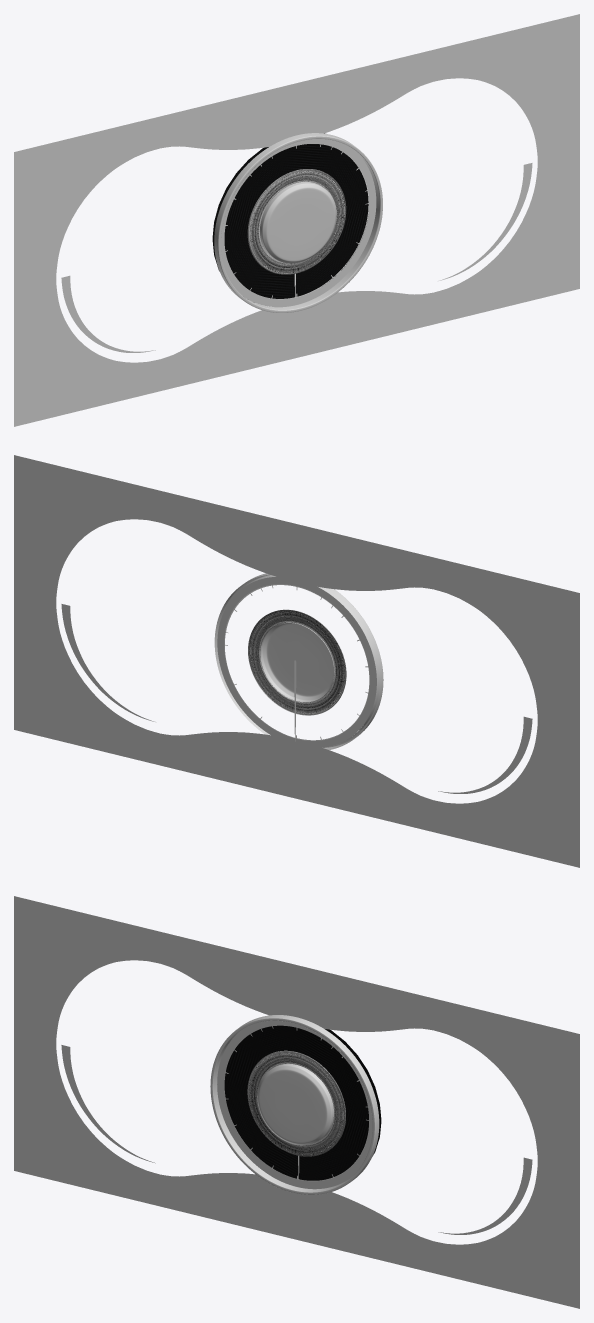
The model's file is FC_traditional.fbx.
3 views of the same model, one above another, from view 1: azimuth 30°, elevation 25°; view 2: azimuth 150°, elevation 25°; view 3: azimuth 330°, elevation 25° (orthographic).
Parts seen in each view (by area): view 1: Mask, Backface, Base, MetalCircle, Progress_Speed, Progress_RPM, TemperatureMeter, GasMeter; view 2: Mask, Base, MetalCircle, Progress_RPM, Progress_Speed, TemperatureMeter, GasMeter; view 3: Mask, Backface, Base, MetalCircle, Progress_Speed, Progress_RPM, GasMeter, TemperatureMeter.
Part boxes in pixels (x1,y1,x2,y2): Mask: (14,14,579,426); Backface: (212,133,368,298); Base: (214,133,382,312); MetalCircle: (247,169,346,274); Progress_Speed: (221,139,374,306); Progress_RPM: (238,139,376,304); TemperatureMeter: (439,163,532,280); GasMeter: (61,275,155,352); Mask: (14,455,579,867); Base: (214,573,383,749); MetalCircle: (248,609,346,715); Progress_RPM: (217,577,366,740); Progress_Speed: (218,576,376,747); TemperatureMeter: (61,604,154,721); GasMeter: (438,716,532,793); Mask: (14,896,579,1308); Backface: (224,1025,381,1180); Base: (210,1015,379,1194); MetalCircle: (247,1050,345,1156); Progress_Speed: (217,1020,370,1186); Progress_RPM: (230,1020,372,1189); GasMeter: (61,1045,155,1163); TemperatureMeter: (438,1157,532,1234).
Size of the model in its own units: 9.64 by 4.47 by 0.2745.
